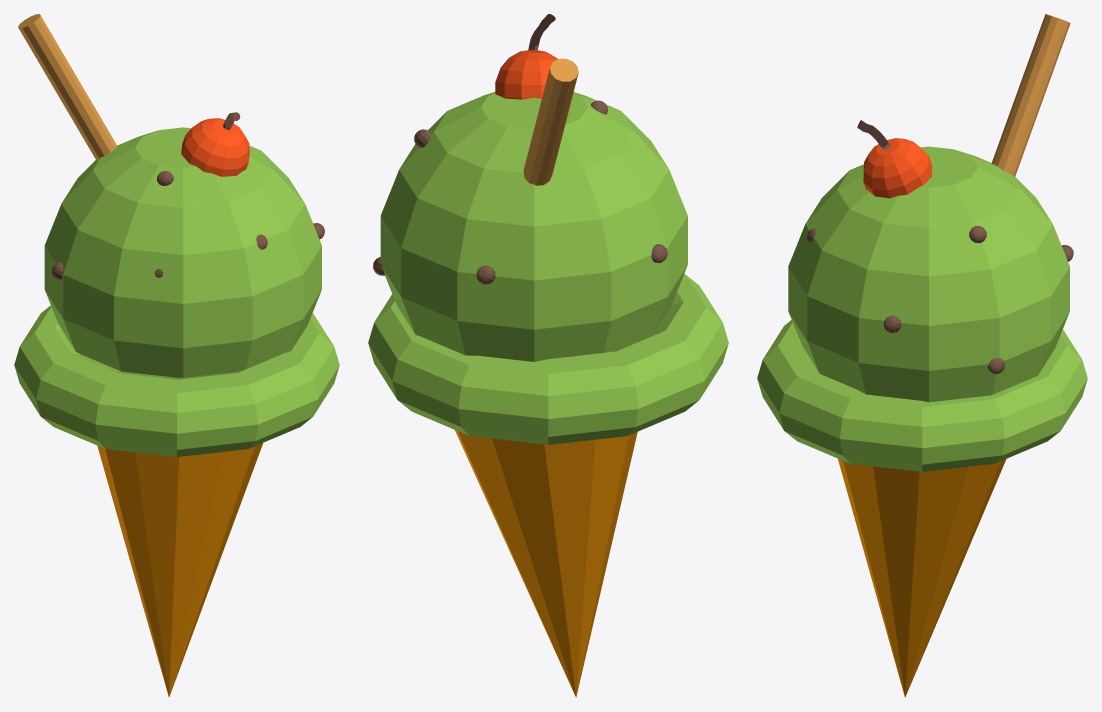
The model's file is Ice cream cone.glb.
The picture shows the model from 3 angles, left to right: view 1: azimuth 30°, elevation 25°; view 2: azimuth 150°, elevation 25°; view 3: azimuth 270°, elevation 25°; orthographic projection. The views are drawn at different scales.
Parts seen in each view (by area): view 1: Node; view 2: Node; view 3: Node.
Boxes of the visible parts, x1=… form: Node: x1=14, y1=14, x2=339, y2=697; Node: x1=368, y1=14, x2=728, y2=697; Node: x1=757, y1=14, x2=1087, y2=697.
Bounding box in the file's own units: 0.37 × 0.8068 × 0.37.
